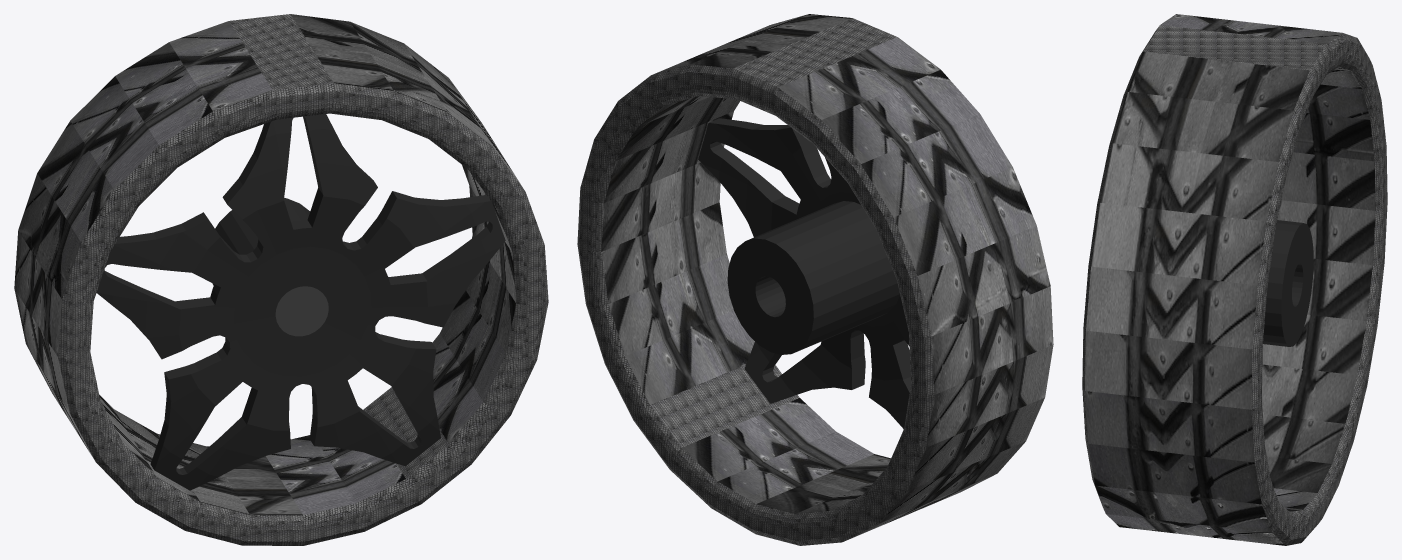
File: llantaDeDer.fbx
3 renders of one model, left to right at view 1: azimuth 30°, elevation 25°; view 2: azimuth 150°, elevation 25°; view 3: azimuth 270°, elevation 25°, orthographic. The views are drawn at different scales.
Visible parts, largest first — view 1: Group1; view 2: Group1; view 3: Group1.
Boxes of the visible parts, x1,y1,x2,y2 form: Group1: [14, 14, 548, 545]; Group1: [577, 14, 1053, 545]; Group1: [1082, 14, 1387, 545].
Size of the model in its own units: 32.29 by 30.63 by 18.15.
3 materials, 1 textured.
